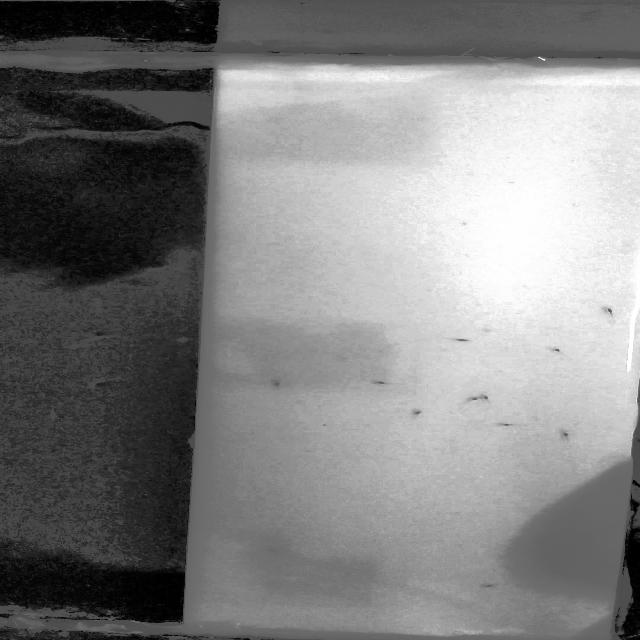shrimp: (264, 375, 290, 389), (370, 376, 400, 388), (478, 391, 500, 406), (261, 543, 284, 556), (406, 409, 431, 418), (561, 427, 574, 442), (447, 336, 473, 343), (604, 306, 619, 315), (484, 581, 498, 589), (470, 394, 484, 402), (495, 421, 518, 425), (553, 349, 565, 354)
